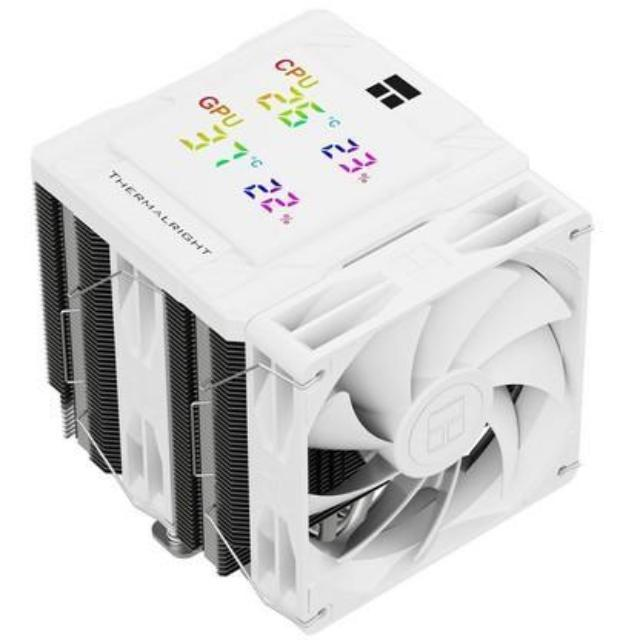CPU_Fan: (34, 6, 583, 612)
